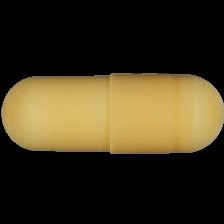65862-199: (0, 0, 224, 224)
